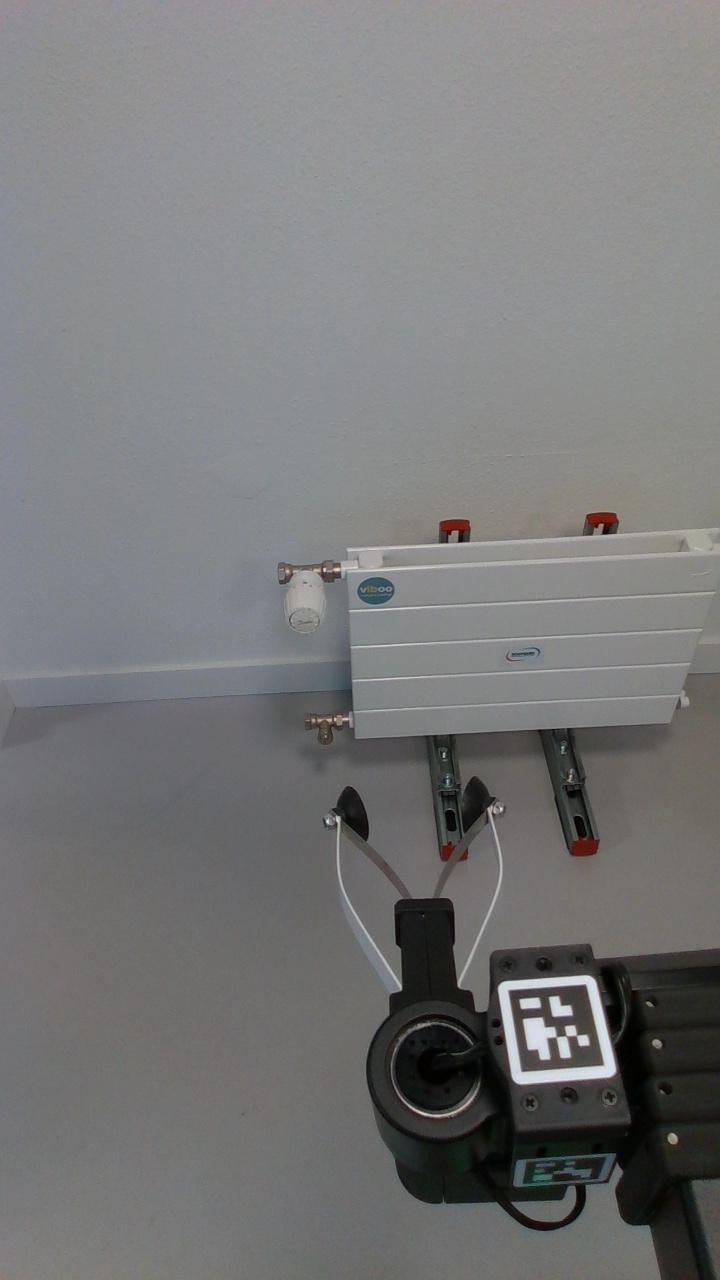Knob_Radiator: (272, 567, 338, 643)
Radiator: (323, 512, 716, 752)
